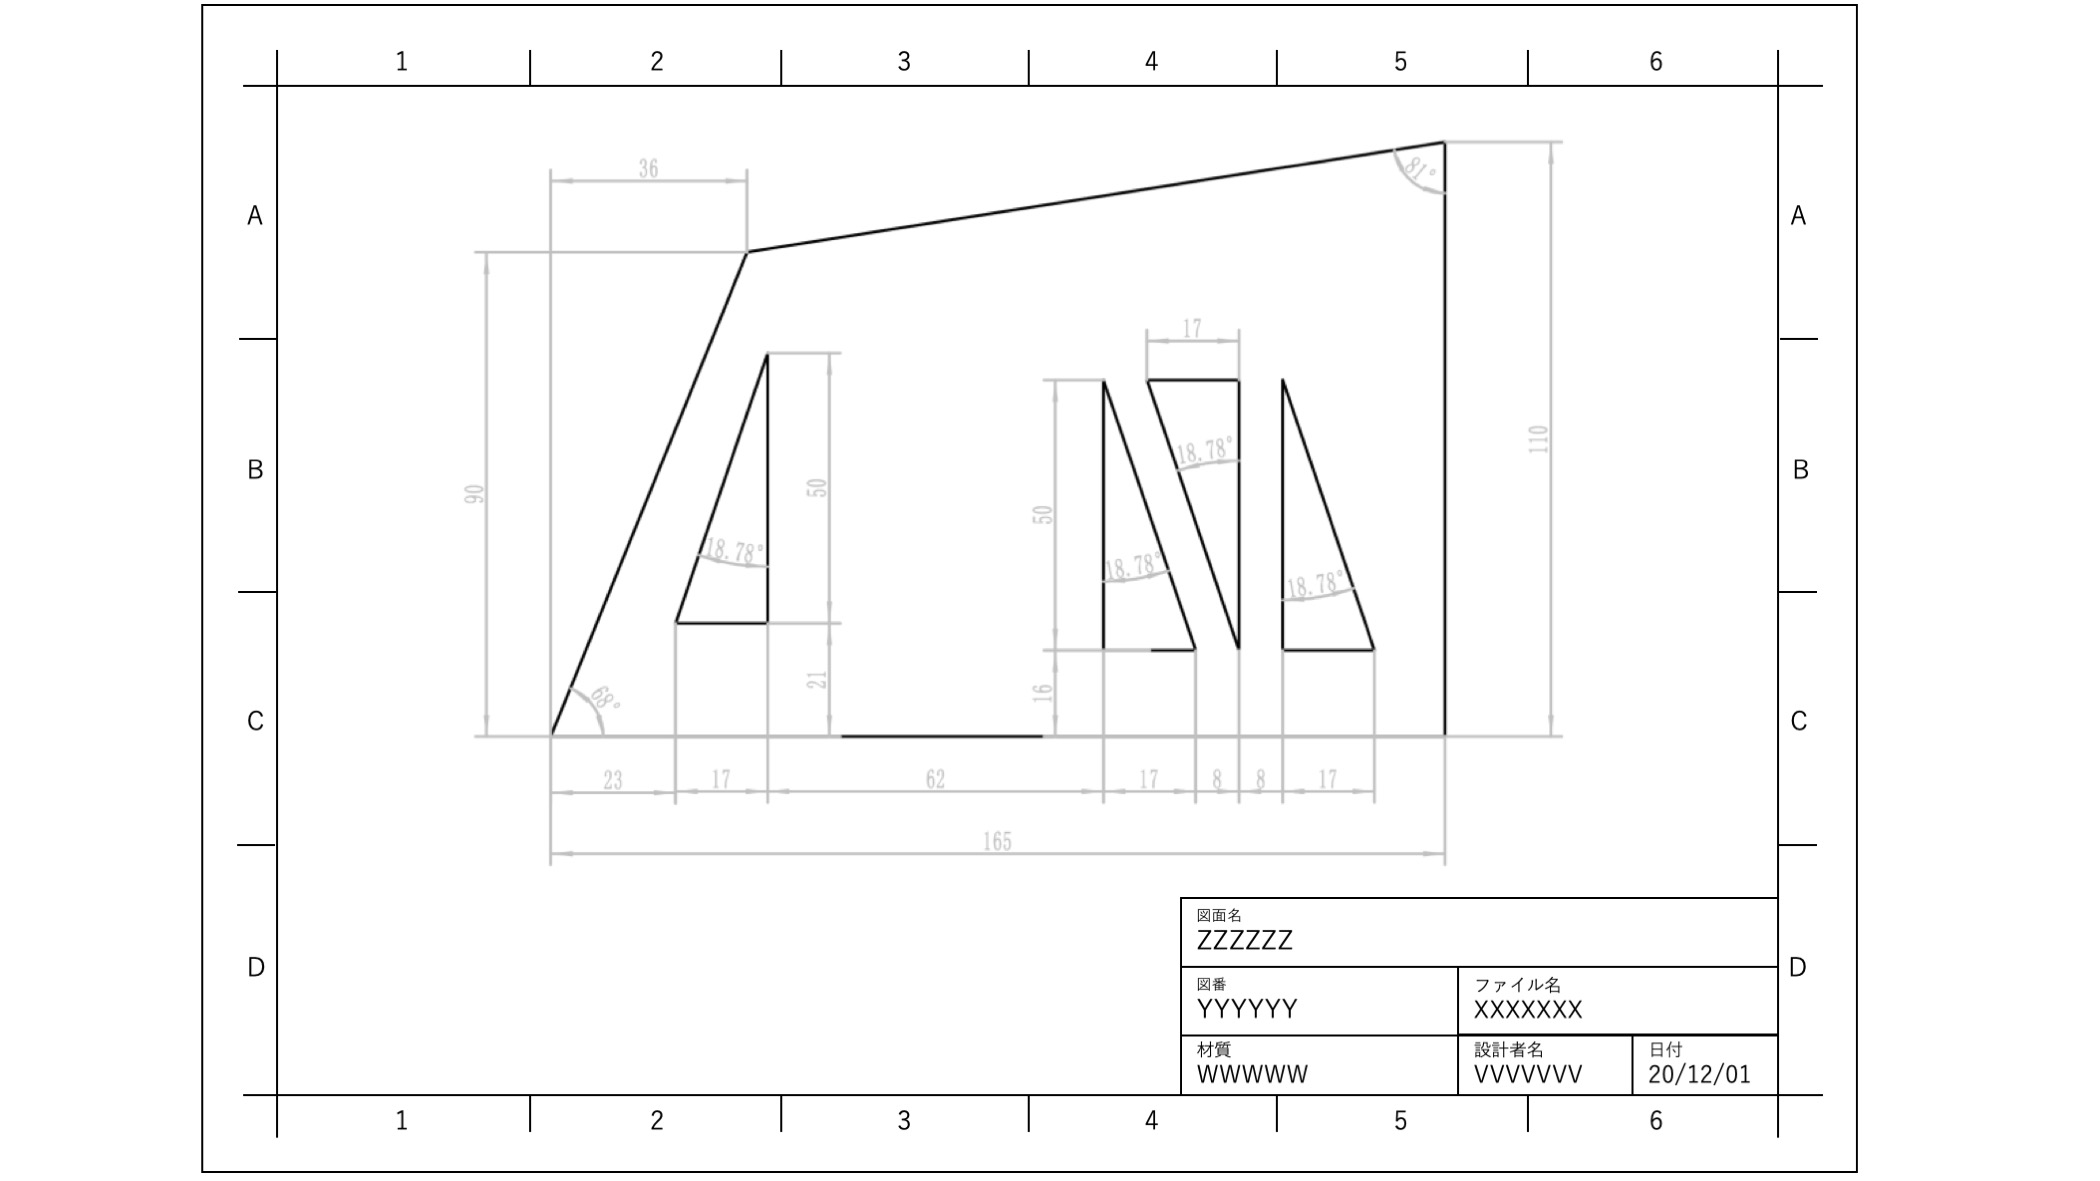triangle: (1266, 366, 1387, 659), (1139, 363, 1250, 656), (1090, 373, 1201, 663), (671, 343, 777, 633)
